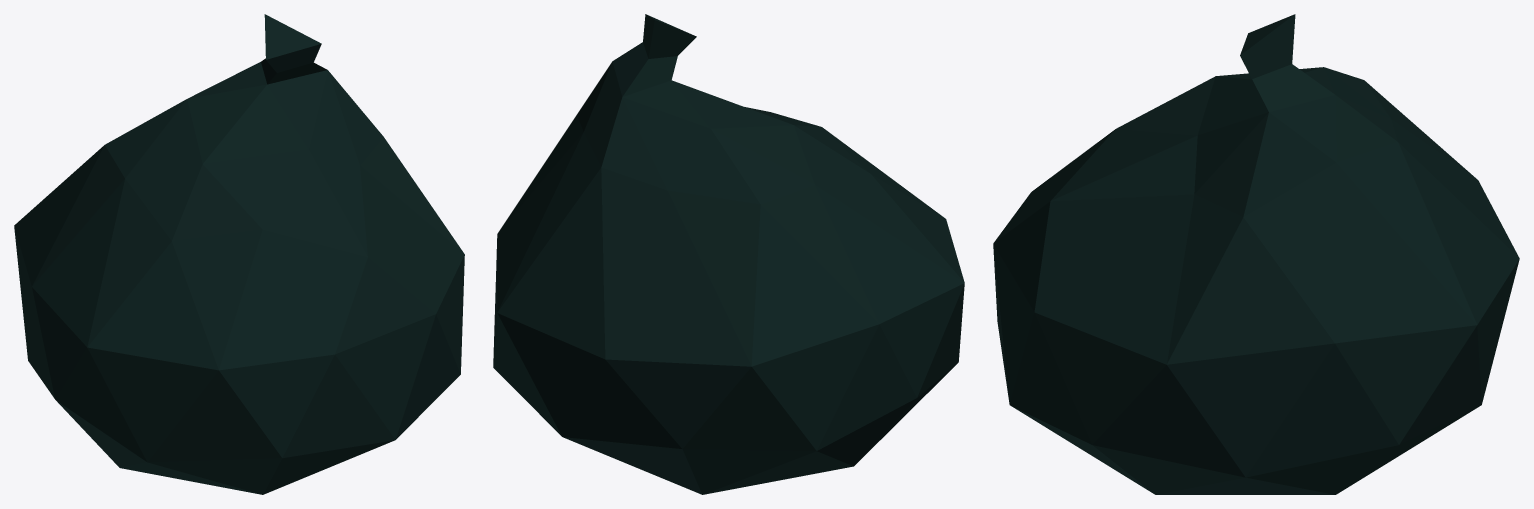
File: trashbag.fbx
3 renders of one model, left to right at view 1: azimuth 30°, elevation 25°; view 2: azimuth 150°, elevation 25°; view 3: azimuth 270°, elevation 25°, orthographic. The views are drawn at different scales.
Parts seen in each view (by area): view 1: Icosphere; view 2: Icosphere; view 3: Icosphere.
Part boxes in pixels (x1,y1,x2,y2): Icosphere: (14,14,464,494); Icosphere: (493,14,964,494); Icosphere: (993,14,1519,494).
Size of the model in its own units: 173 by 185 by 180.
